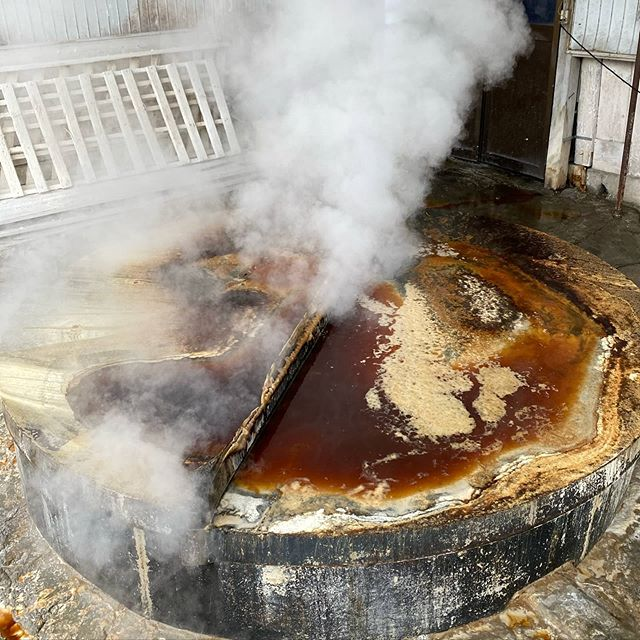smoke: (239, 1, 513, 299)
